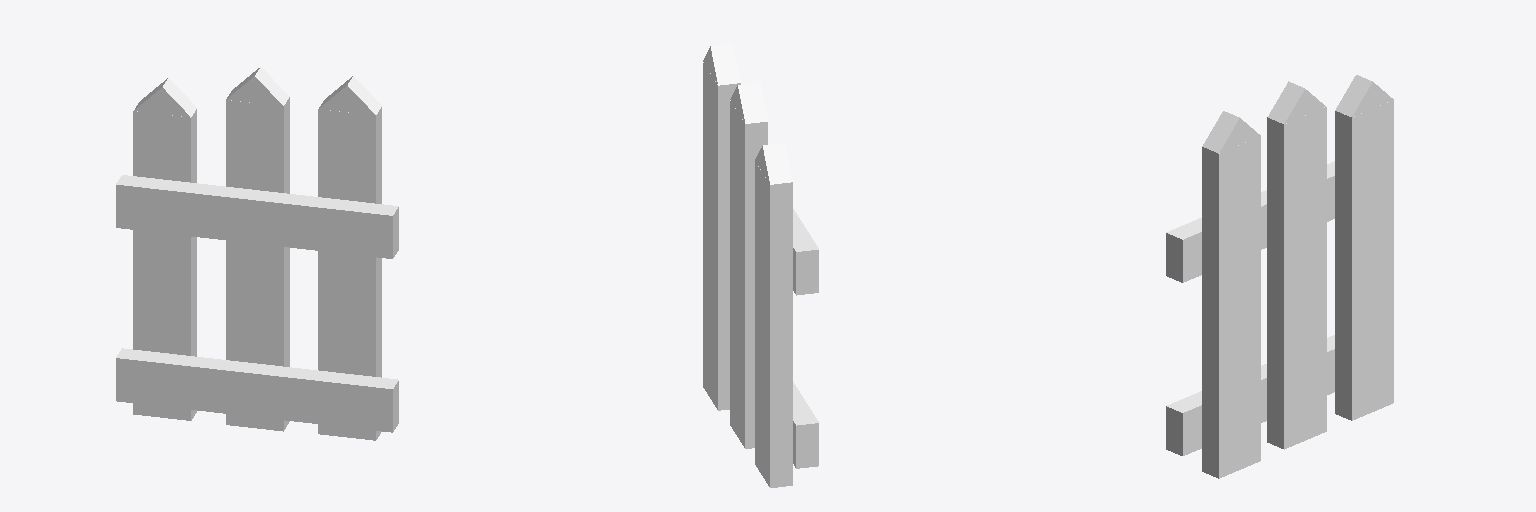
The model's file is thin_white_picket_fence_ne_flipped.obj.
3 renders of one model, left to right at view 1: azimuth 30°, elevation 25°; view 2: azimuth 150°, elevation 25°; view 3: azimuth 270°, elevation 25°, orthographic.
Parts seen in each view (by area): view 1: cube, cube.001, cube.007, cube.005, cube.002, cube.004, cube.006, cube.003; view 2: cube.002, cube.007, cube.005, cube.001, cube, cube.003, cube.004, cube.006; view 3: cube.005, cube.007, cube.002, cube, cube.001, cube.006, cube.003, cube.004.
Part boxes in pixels (left/top/right/bottom): cube: left=116, top=175, right=398, bottom=258; cube.001: left=116, top=348, right=398, bottom=432; cube.007: left=318, top=107, right=381, bottom=440; cube.005: left=226, top=97, right=289, bottom=431; cube.002: left=133, top=109, right=196, bottom=420; cube.004: left=226, top=67, right=289, bottom=105; cube.006: left=319, top=76, right=381, bottom=115; cube.003: left=134, top=78, right=196, bottom=116; cube.002: left=755, top=162, right=792, bottom=487; cube.007: left=703, top=62, right=740, bottom=410; cube.005: left=730, top=100, right=767, bottom=448; cube.001: left=793, top=382, right=818, bottom=468; cube: left=793, top=209, right=818, bottom=295; cube.003: left=755, top=143, right=792, bottom=184; cube.004: left=730, top=82, right=767, bottom=123; cube.006: left=703, top=44, right=740, bottom=85; cube.005: left=1267, top=107, right=1326, bottom=449; cube.007: left=1202, top=136, right=1260, bottom=478; cube.002: left=1335, top=100, right=1393, bottom=420; cube: left=1166, top=161, right=1334, bottom=282; cube.001: left=1166, top=335, right=1334, bottom=455; cube.006: left=1202, top=111, right=1260, bottom=153; cube.003: left=1335, top=75, right=1393, bottom=116; cube.004: left=1268, top=81, right=1325, bottom=123.
Size of the model in its own units: 0.5784 by 1.02 by 0.5966.